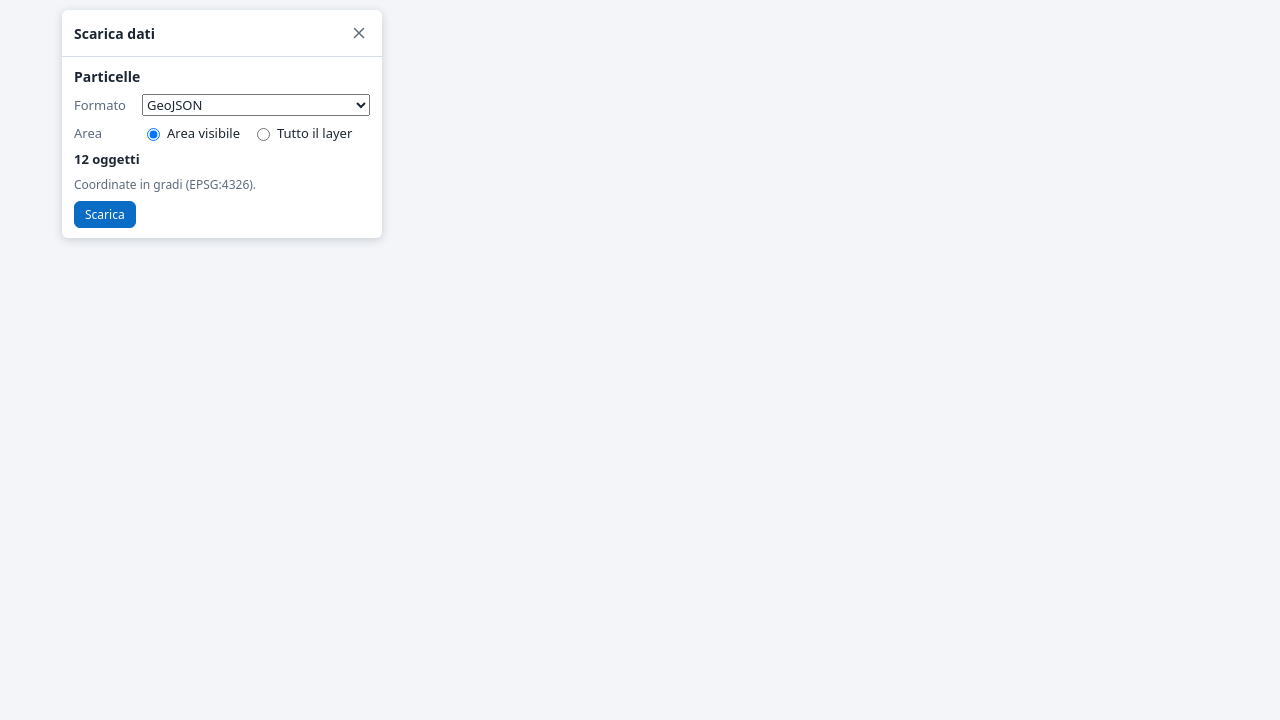
it: DownloadPanel: vettoriale › errore di GeoServer mostrato all'utente, niente file salvato
Expected: the text "12 oggetti" is shown, [74,150,140,168]
Click the button "Scarica".
click(105, 214)  # box [74,201,136,228]
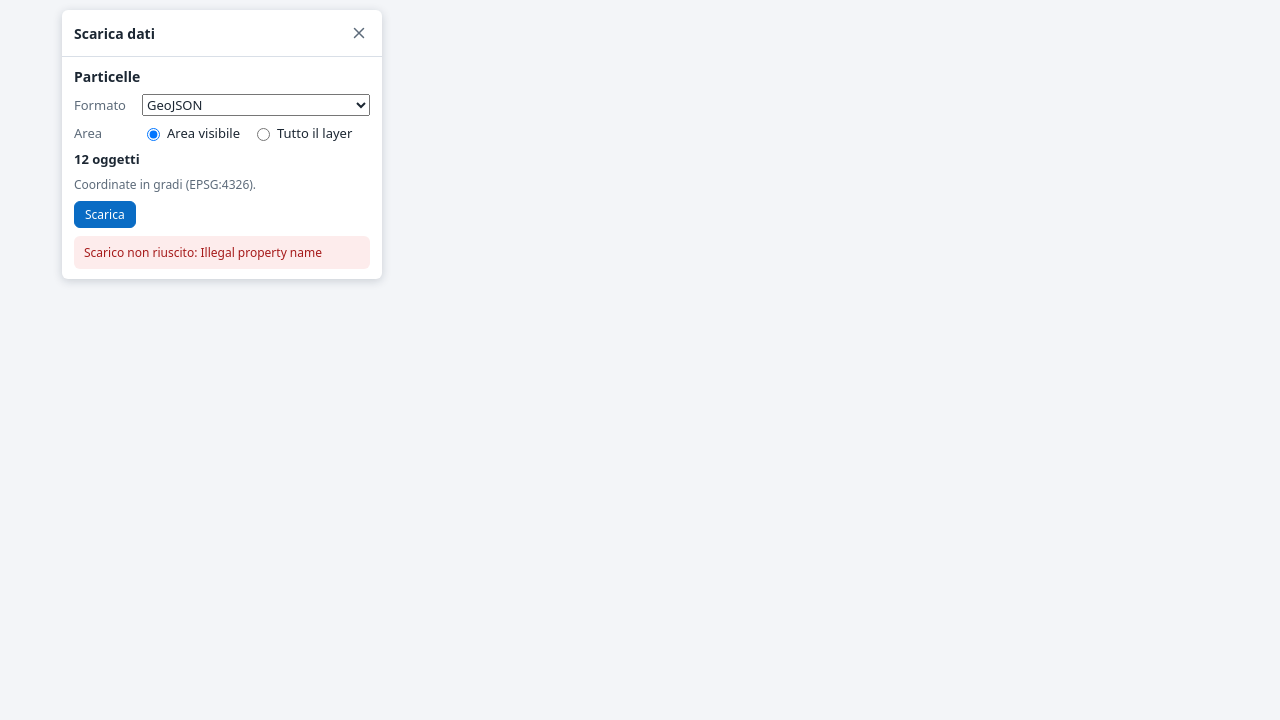
Expected: the message reads "Scarico non riuscito: Illegal property name", [84,244,322,261]
